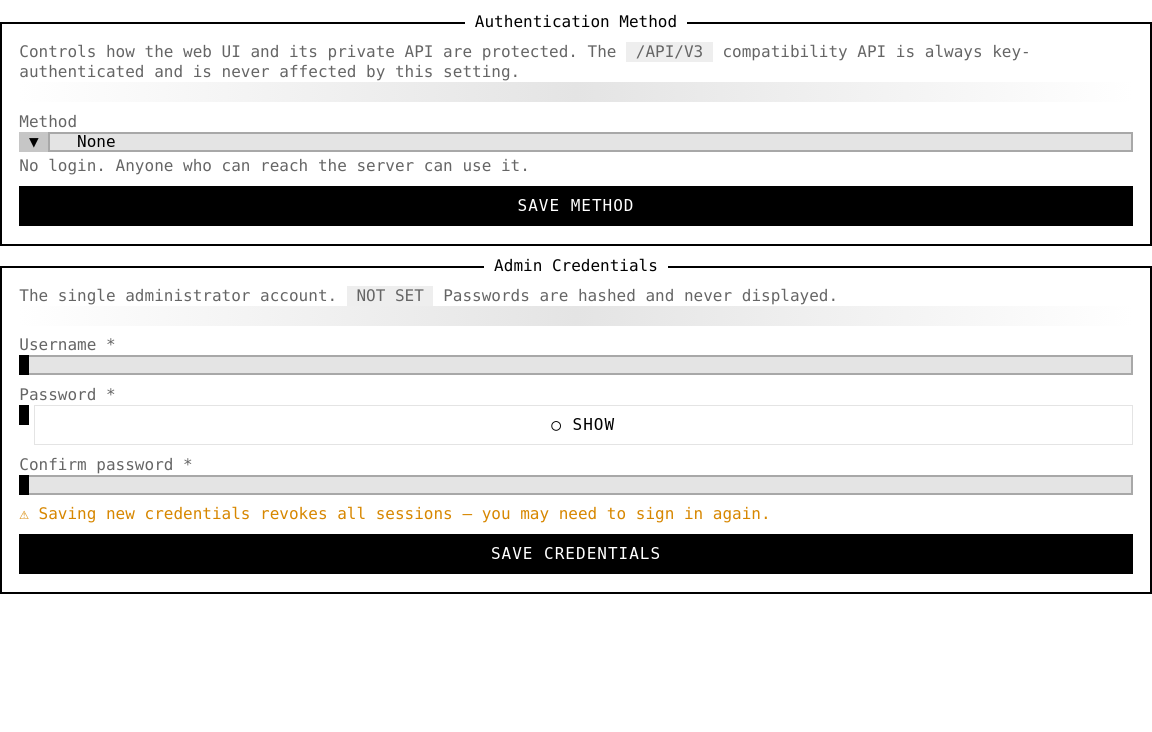
Scenario: Security (settings) › refuses to POST when password and confirmation differ
The image size is (1152, 732).
In the field named "Admin username": (576, 365) [19,355,1133,375], type "root"
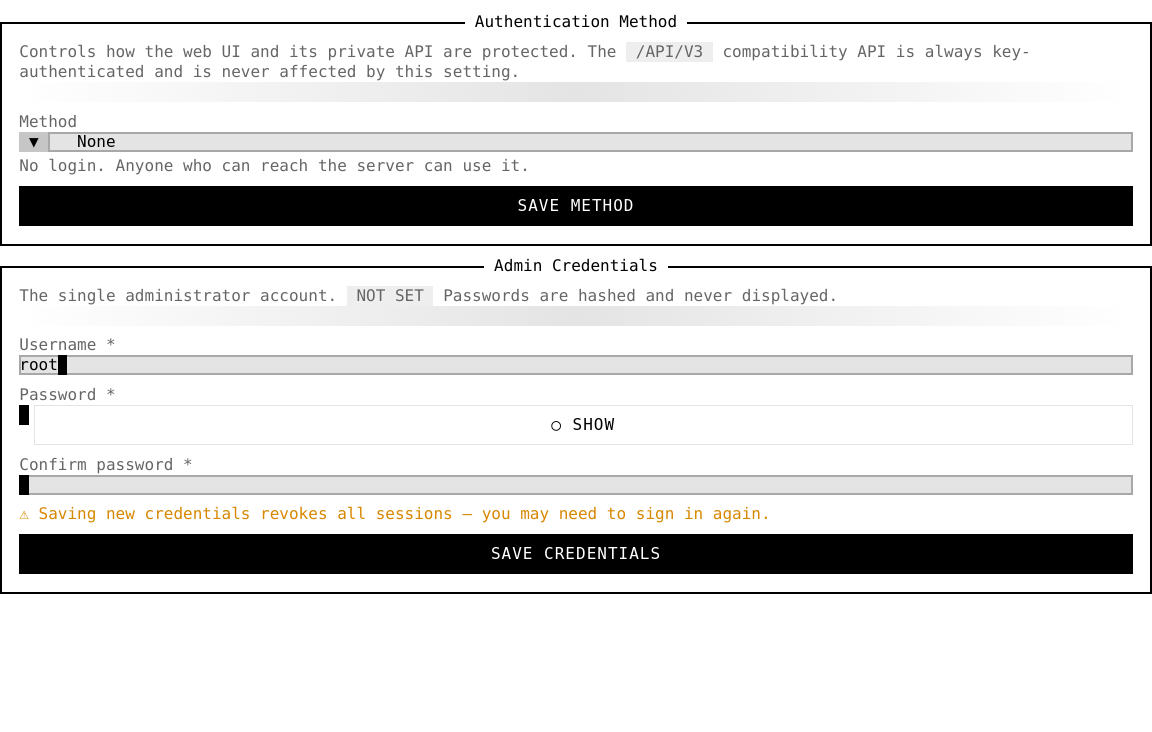
In the password field named "Admin password": (24, 415) [19,405,29,425], type "aaa"
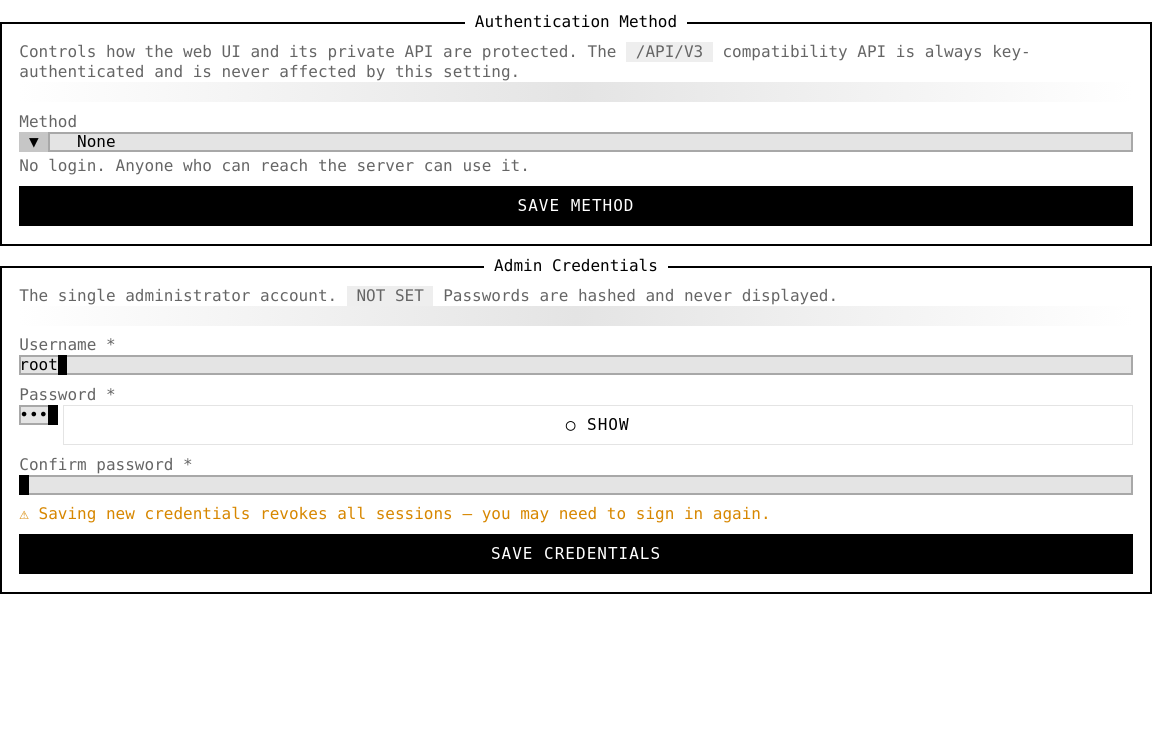
In the password field named "Confirm admin password": (576, 485) [19,475,1133,495], type "bbb"
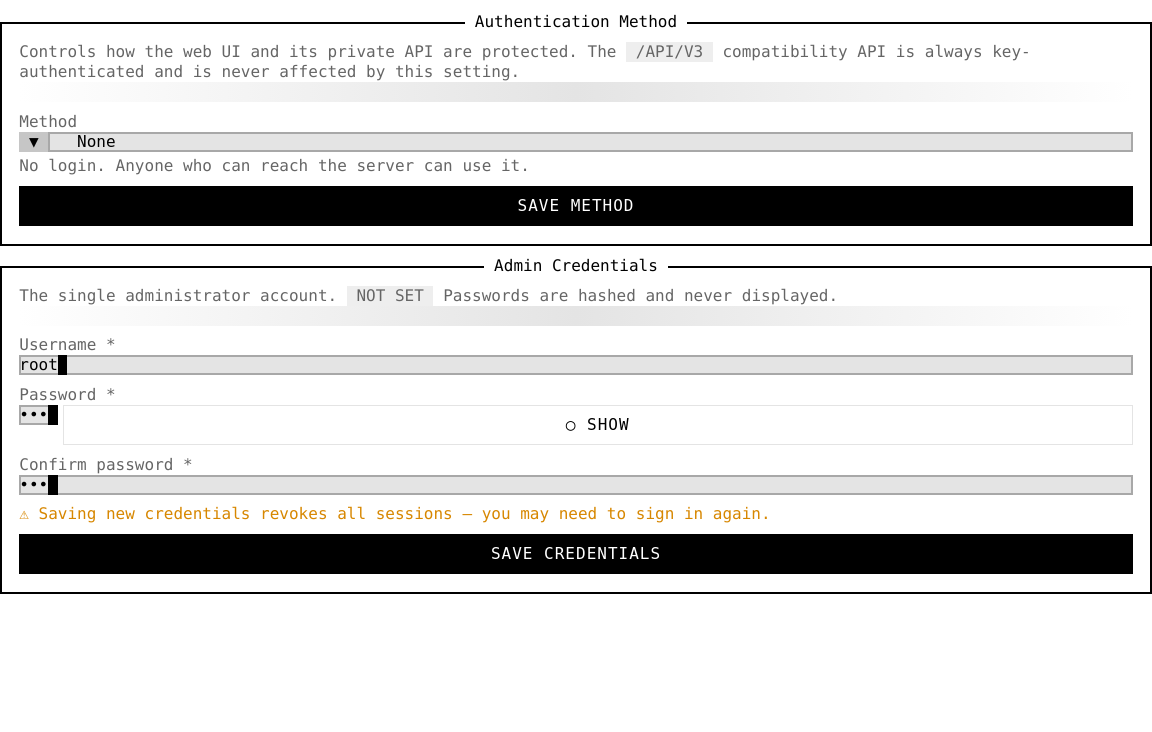
Click the button "Save credentials": (576, 554) [19,534,1133,574]
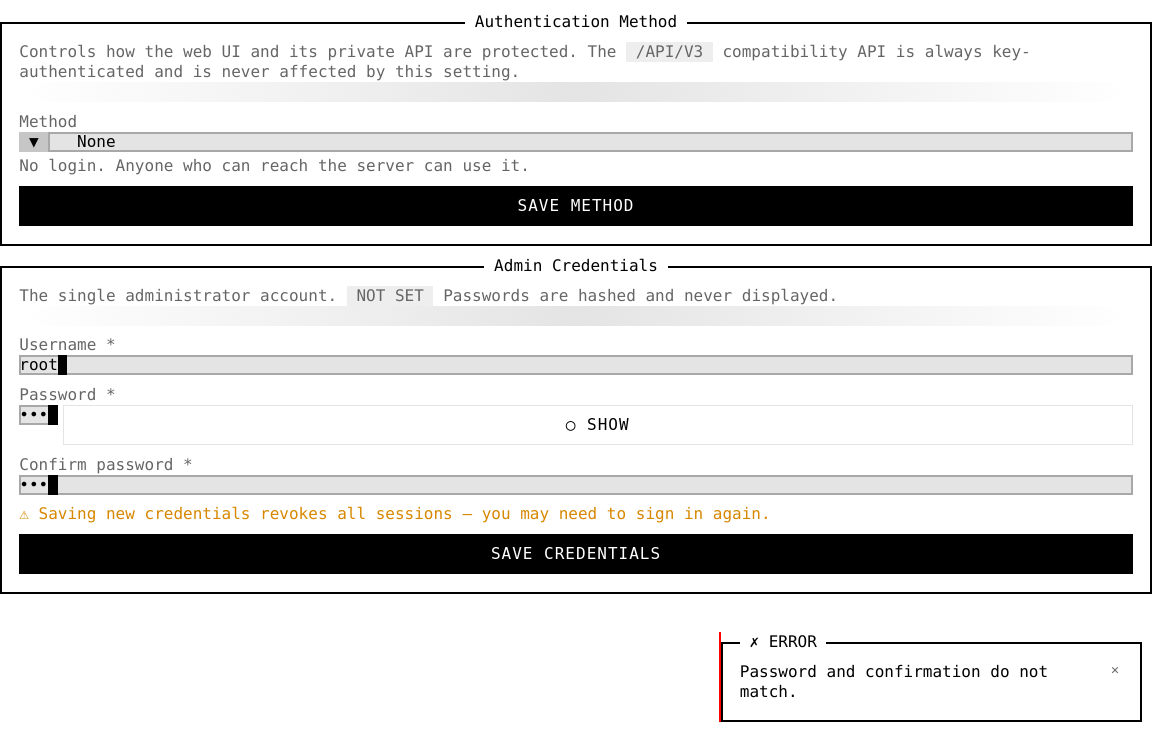
expect the text "Password and confirmation do not match." is shown: met, box [740,662,1098,702]
